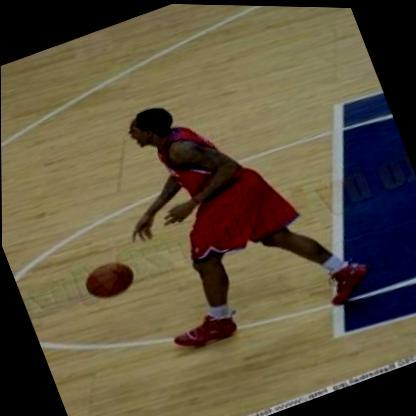basketball: (73, 245, 144, 308)
